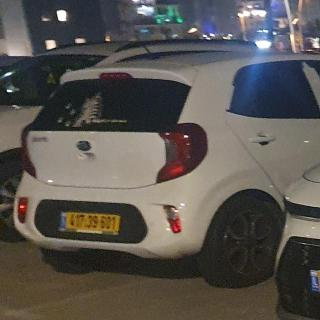LicensePlate: (65, 211, 120, 234)
